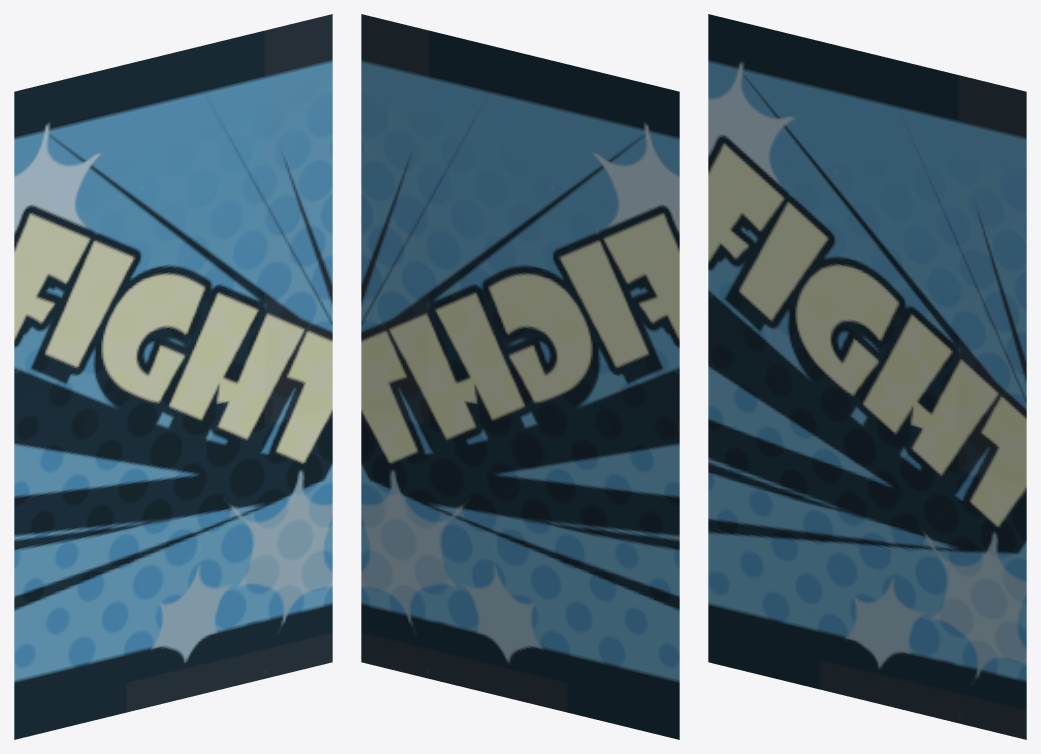
File: Flag01_04.fbx
3 renders of one model, left to right at view 1: azimuth 30°, elevation 25°; view 2: azimuth 150°, elevation 25°; view 3: azimuth 330°, elevation 25°, orthographic.
Parts seen in each view (by area): view 1: Plane033; view 2: Plane033; view 3: Plane033.
Boxes of the visible parts, x1,y1,x2,y2 form: Plane033: (14, 14, 332, 739); Plane033: (361, 14, 679, 739); Plane033: (708, 14, 1026, 739).
Bounding box in the file's own units: 114 × 222 × 0.00014.
